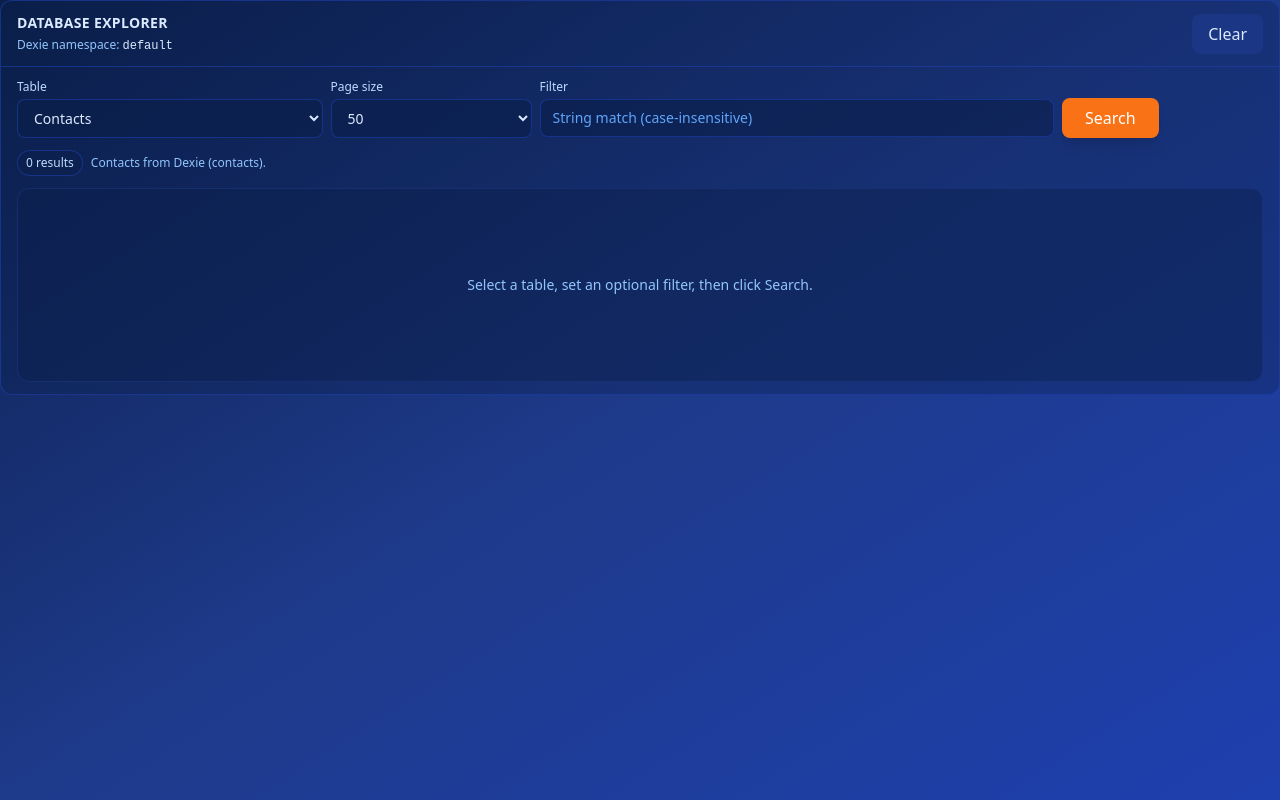
it: DatabaseExplorerPanel › loads contacts and applies a string filter
Type "alice" into the field labelled "Filter". click: (797,118)
box: x1=540 y1=99 x2=1054 y2=137
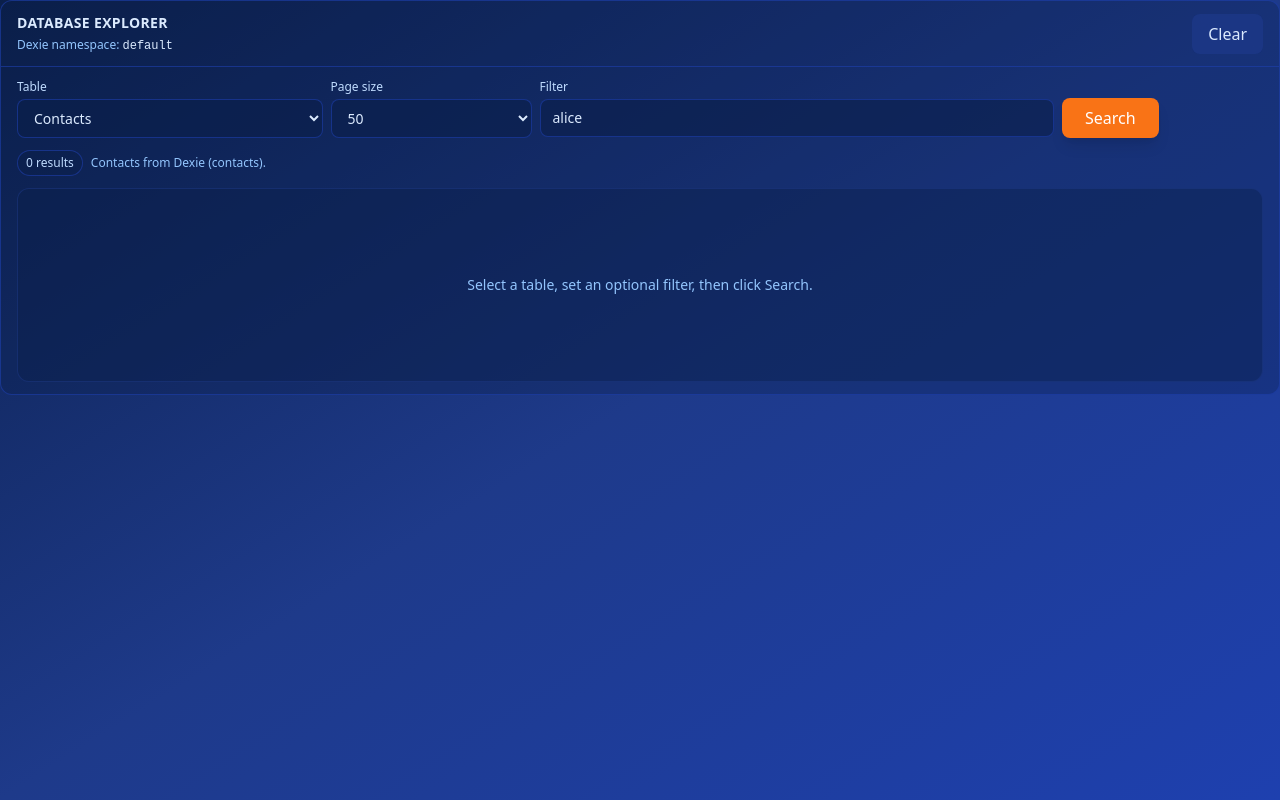
Click the button "Search". click: (1110,118)
box: x1=1062 y1=98 x2=1158 y2=138
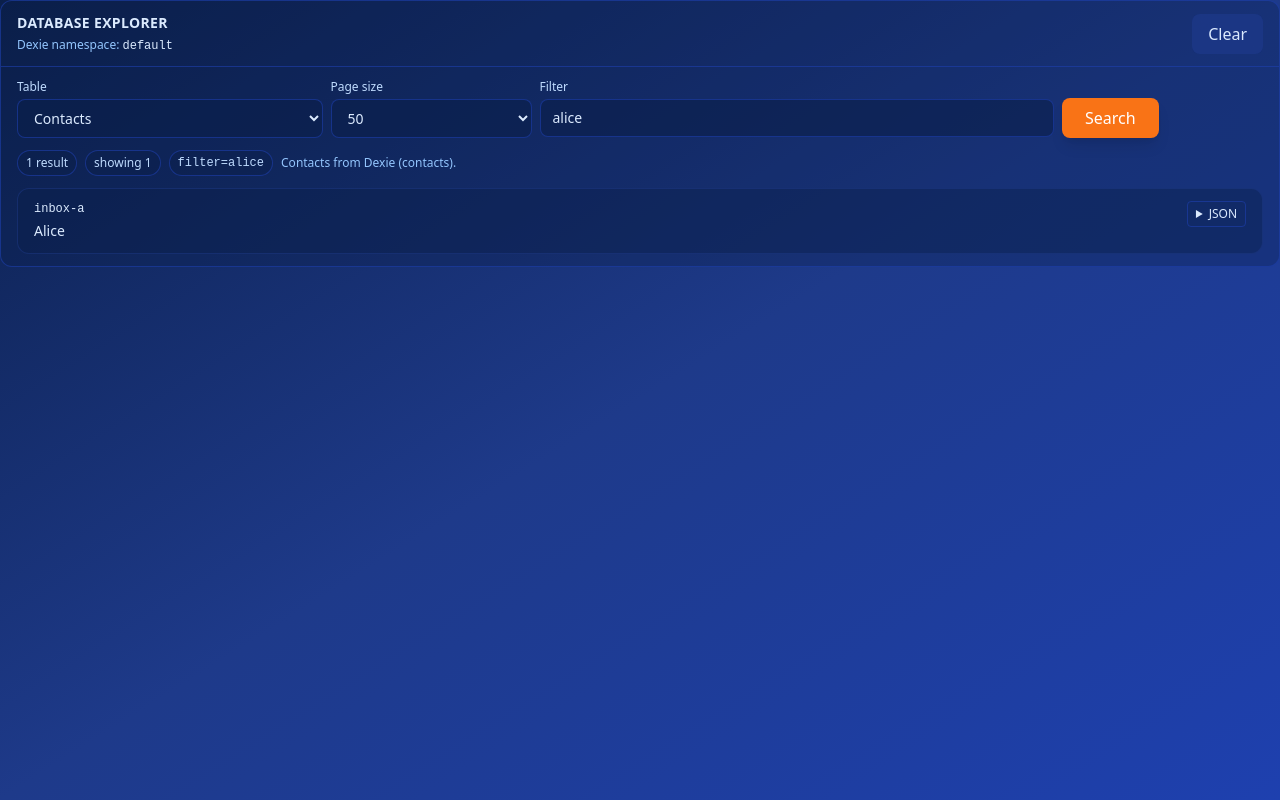
Now the text "inbox-a" is shown, box x1=34 y1=201 x2=84 y2=217
